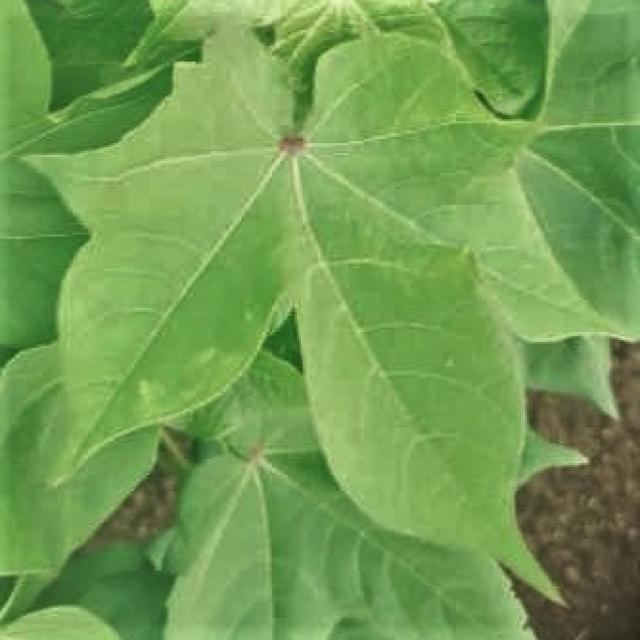Healthy Leaf: (101, 51, 639, 640)
